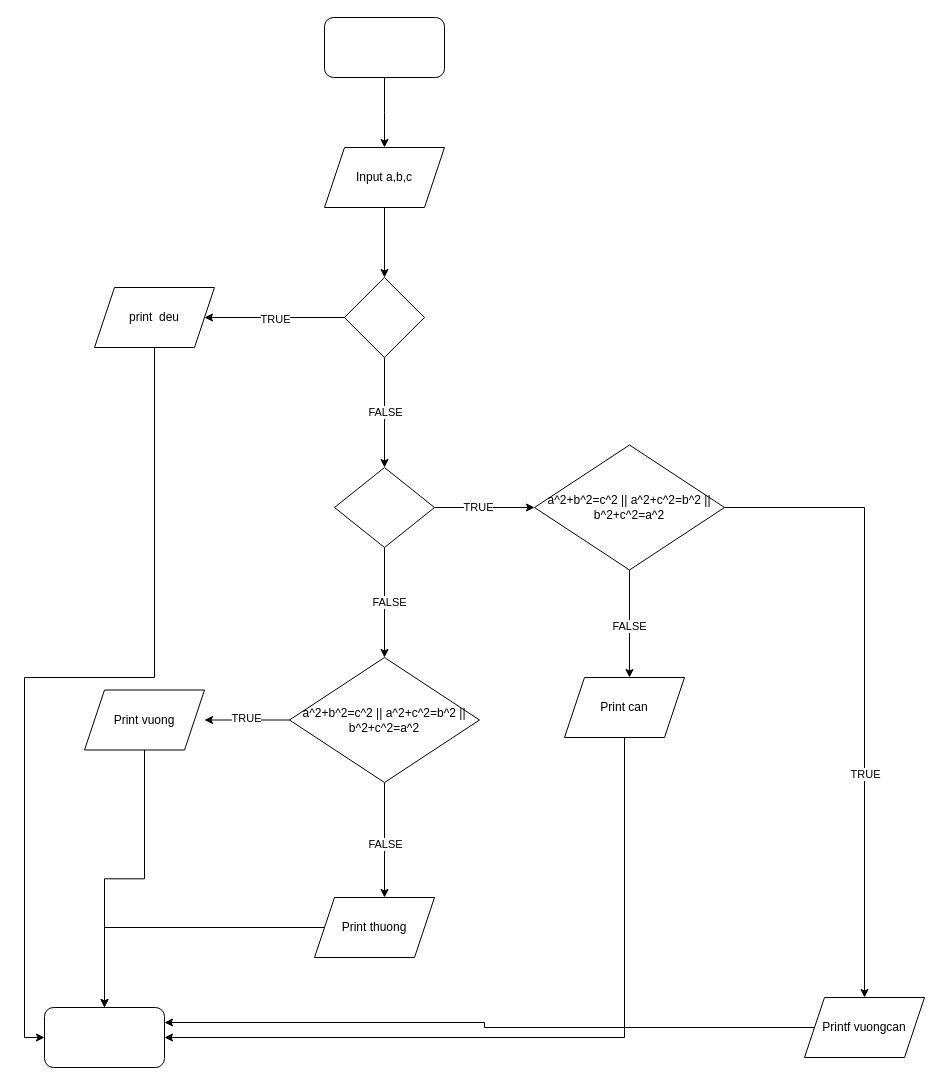
Image size: 942x1085. Some labels were removed from this diagram. Here are the shapes that lost their labels. From the top down, the centre of each, then its label:
[384,47]: Start
[384,317]: a=b&&b=c
[384,507]: a=b || b=c || a=c
[104,1037]: End
